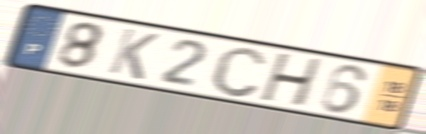2: (156, 38, 213, 90)
6: (319, 62, 371, 115)
8: (55, 20, 107, 70)
C: (208, 44, 269, 100)
H: (256, 52, 327, 110)
K: (105, 25, 162, 82)
